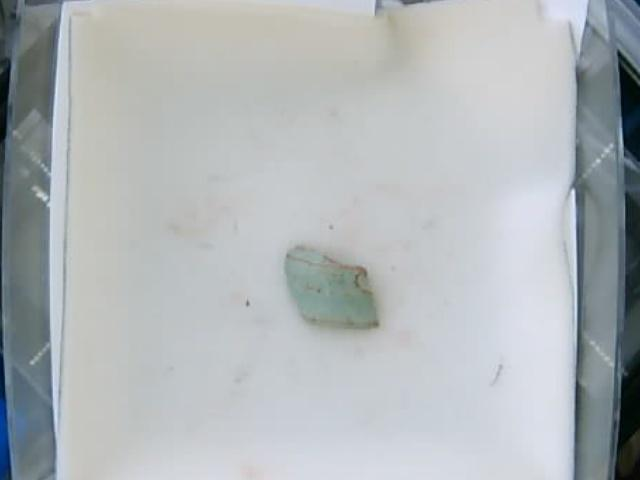China: (285, 243, 381, 328)
